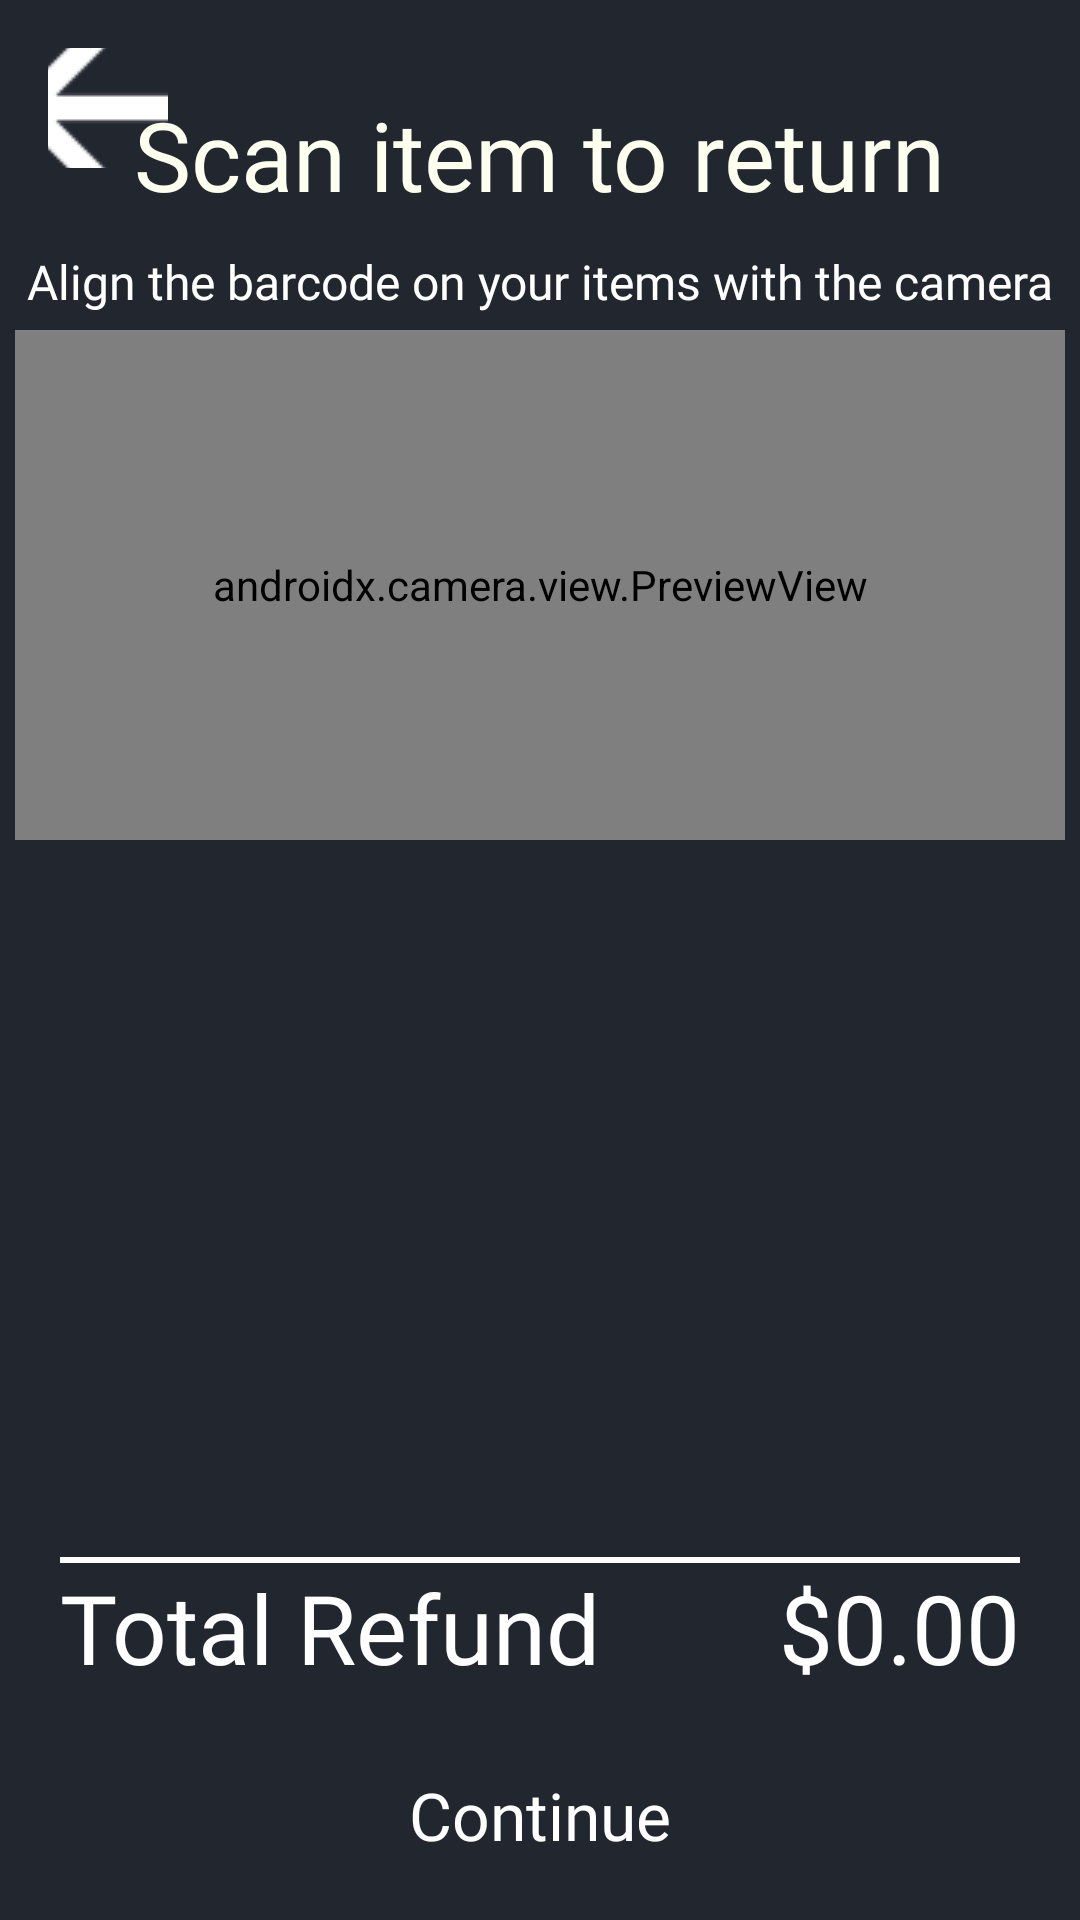

Screen size 1080w x 1920h. Icon name, then its center in pixels as (x=x, y=y):
Back: (x=108, y=108)
